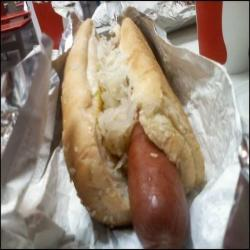hotdog: (62, 17, 207, 245)
